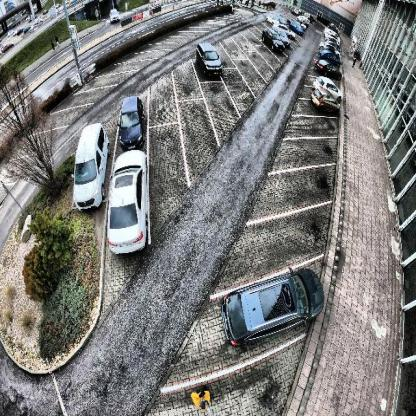free: (153, 131, 184, 196), (255, 222, 299, 265), (184, 116, 214, 168), (272, 172, 308, 210), (150, 84, 175, 121), (211, 94, 235, 132), (294, 142, 321, 166), (297, 114, 324, 136), (174, 68, 196, 94), (230, 82, 250, 108), (242, 69, 262, 93), (254, 58, 269, 75), (218, 51, 230, 69), (227, 37, 238, 53), (240, 38, 249, 50)
occupied: (233, 276, 319, 336), (110, 149, 152, 251), (72, 124, 105, 210), (118, 93, 147, 148), (196, 40, 225, 78), (312, 90, 341, 114), (314, 77, 342, 95), (315, 58, 340, 76), (264, 32, 282, 52)
